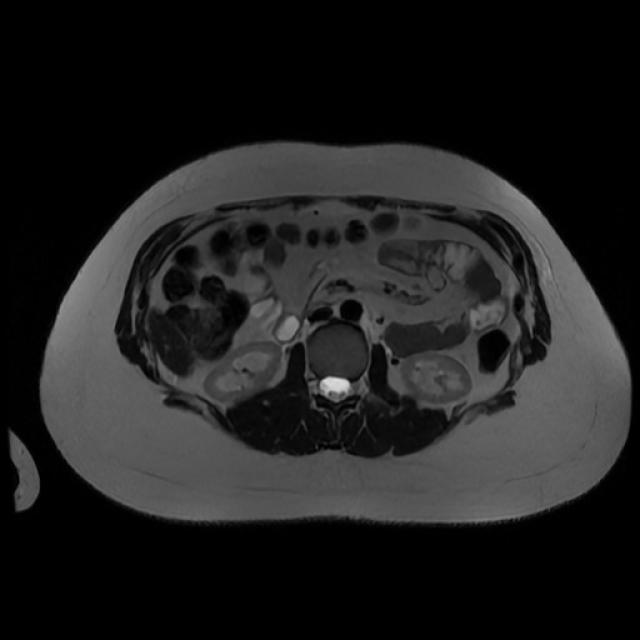sag: (206, 340, 280, 402)
sol: (407, 354, 471, 400)
